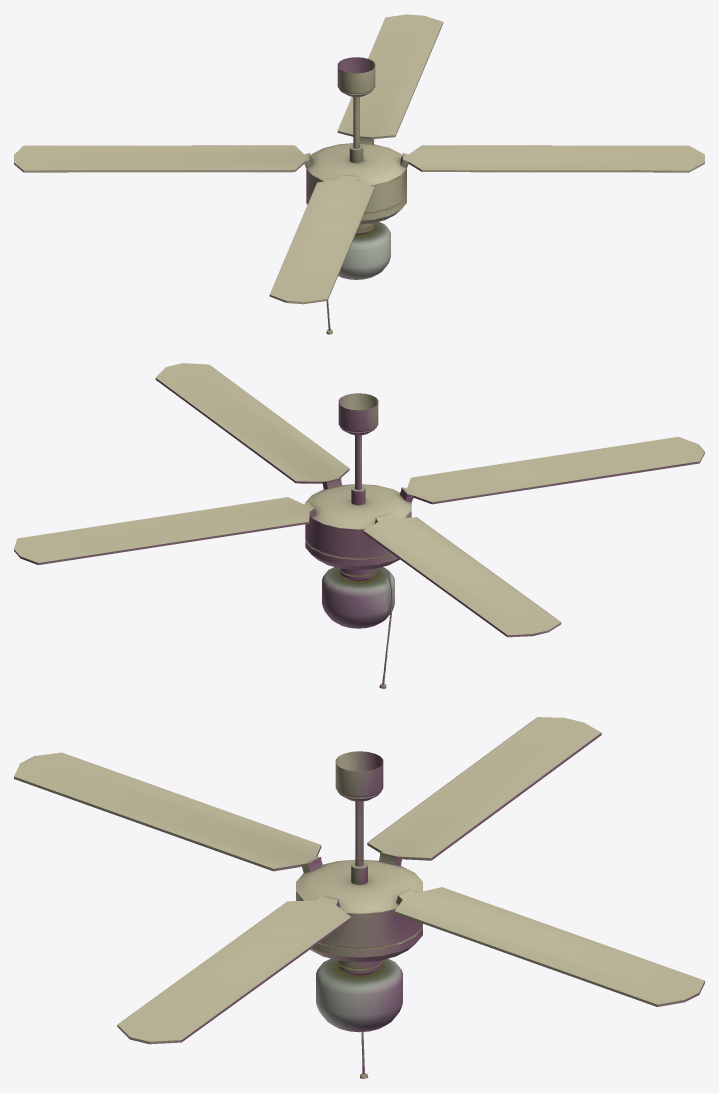
Rendered from Ceiling fan.fbx.
3 renders of one model, top to bottom at view 1: azimuth 30°, elevation 25°; view 2: azimuth 150°, elevation 25°; view 3: azimuth 270°, elevation 25°, orthographic. The views are drawn at different scales.
Visible parts, largest first — view 1: Ceiling Fan; view 2: Ceiling Fan; view 3: Ceiling Fan.
Part boxes in pixels (x1,y1,x2,y2): Ceiling Fan: (14, 14, 704, 334); Ceiling Fan: (14, 363, 704, 688); Ceiling Fan: (14, 717, 704, 1078).
Size of the model in its own units: 137 by 65.42 by 123.
